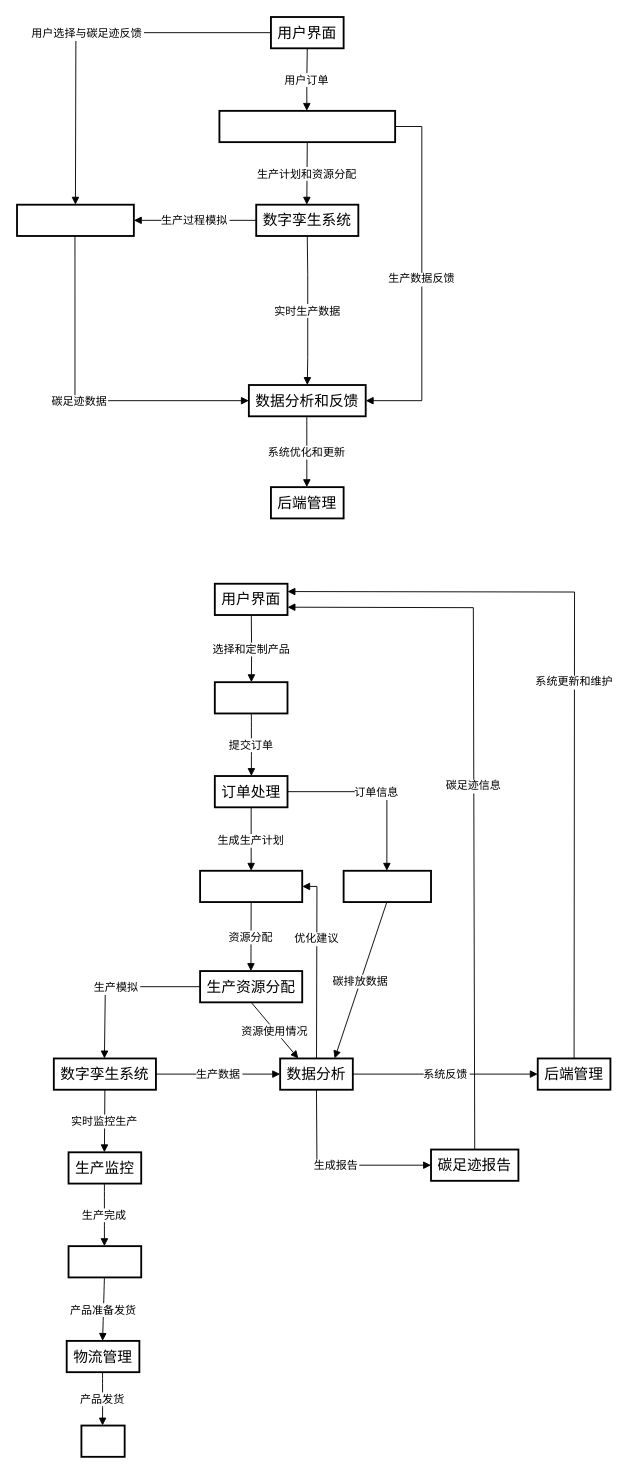
This 629x1473 diagram has some shape labels left out. The shapes that lost their labels are listed below. From the top down, each one's centre as x and y in pixels, then its label:
the point at 307,126: 订单处理和生产计划系统
the point at 75,219: 碳足迹评估模块
the point at 250,697: 产品配置
the point at 251,886: 生产计划系统
the point at 386,886: 碳足迹评估
the point at 104,1261: 质量检验
the point at 102,1440: 客户
